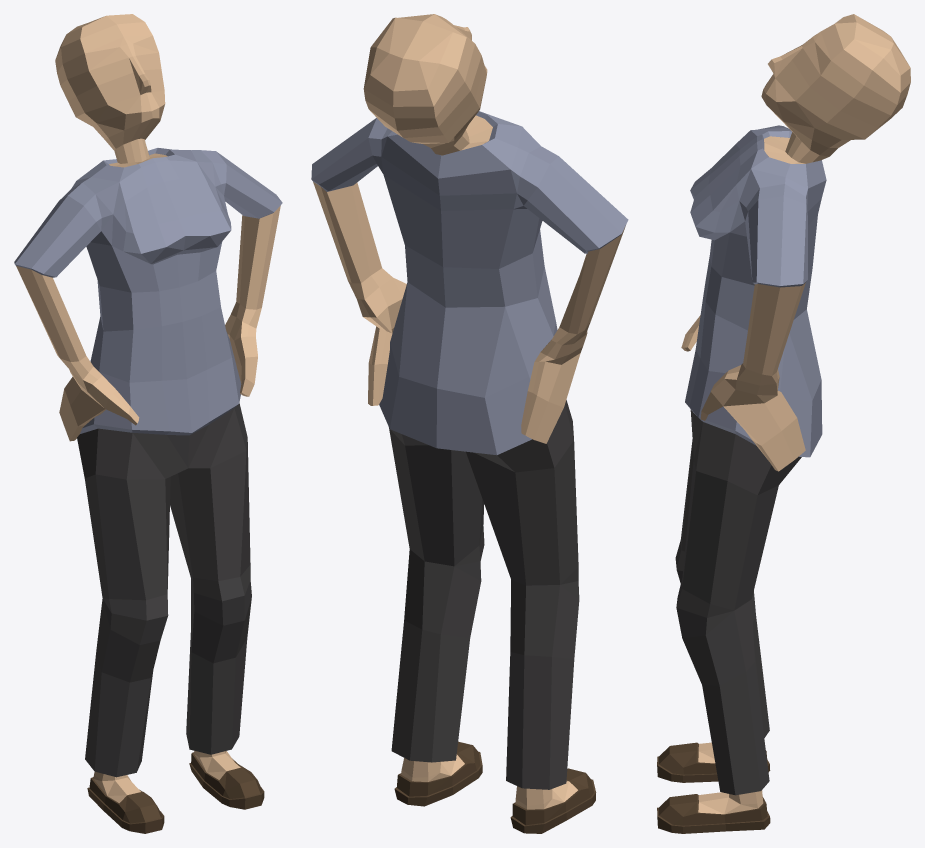
Rendered from Female_LookingUp.glb.
The picture shows the model from 3 angles, left to right: view 1: azimuth 30°, elevation 25°; view 2: azimuth 150°, elevation 25°; view 3: azimuth 270°, elevation 25°; orthographic projection. The views are drawn at different scales.
Visible parts, largest first — view 1: Female_LookingUp; view 2: Female_LookingUp; view 3: Female_LookingUp.
Boxes of the visible parts, box(x1,y1,x2,y2) form: Female_LookingUp: box(14, 14, 282, 833); Female_LookingUp: box(311, 14, 628, 833); Female_LookingUp: box(657, 14, 910, 833).
Bounding box in the file's own units: 1.36 × 3.59 × 1.07.
